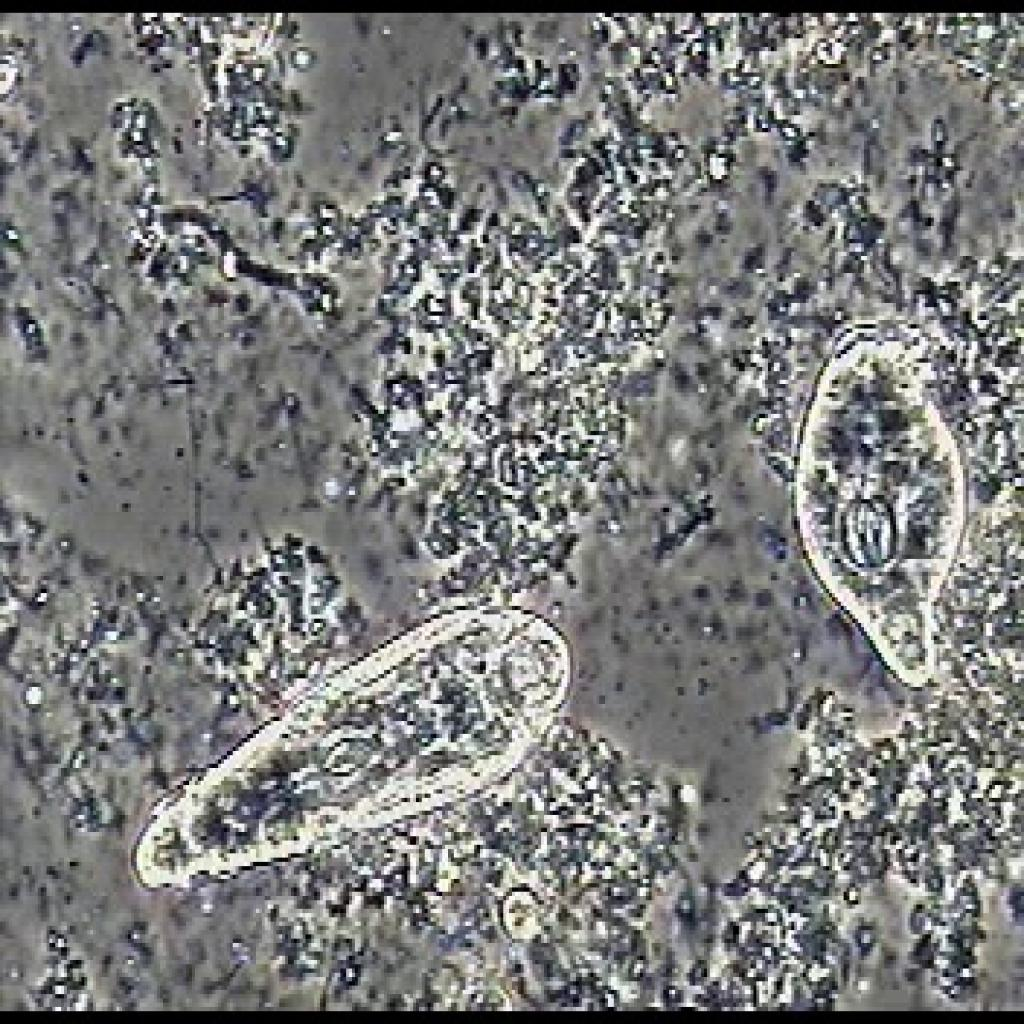Rotatoria: (113, 587, 576, 911), (774, 290, 972, 683)
